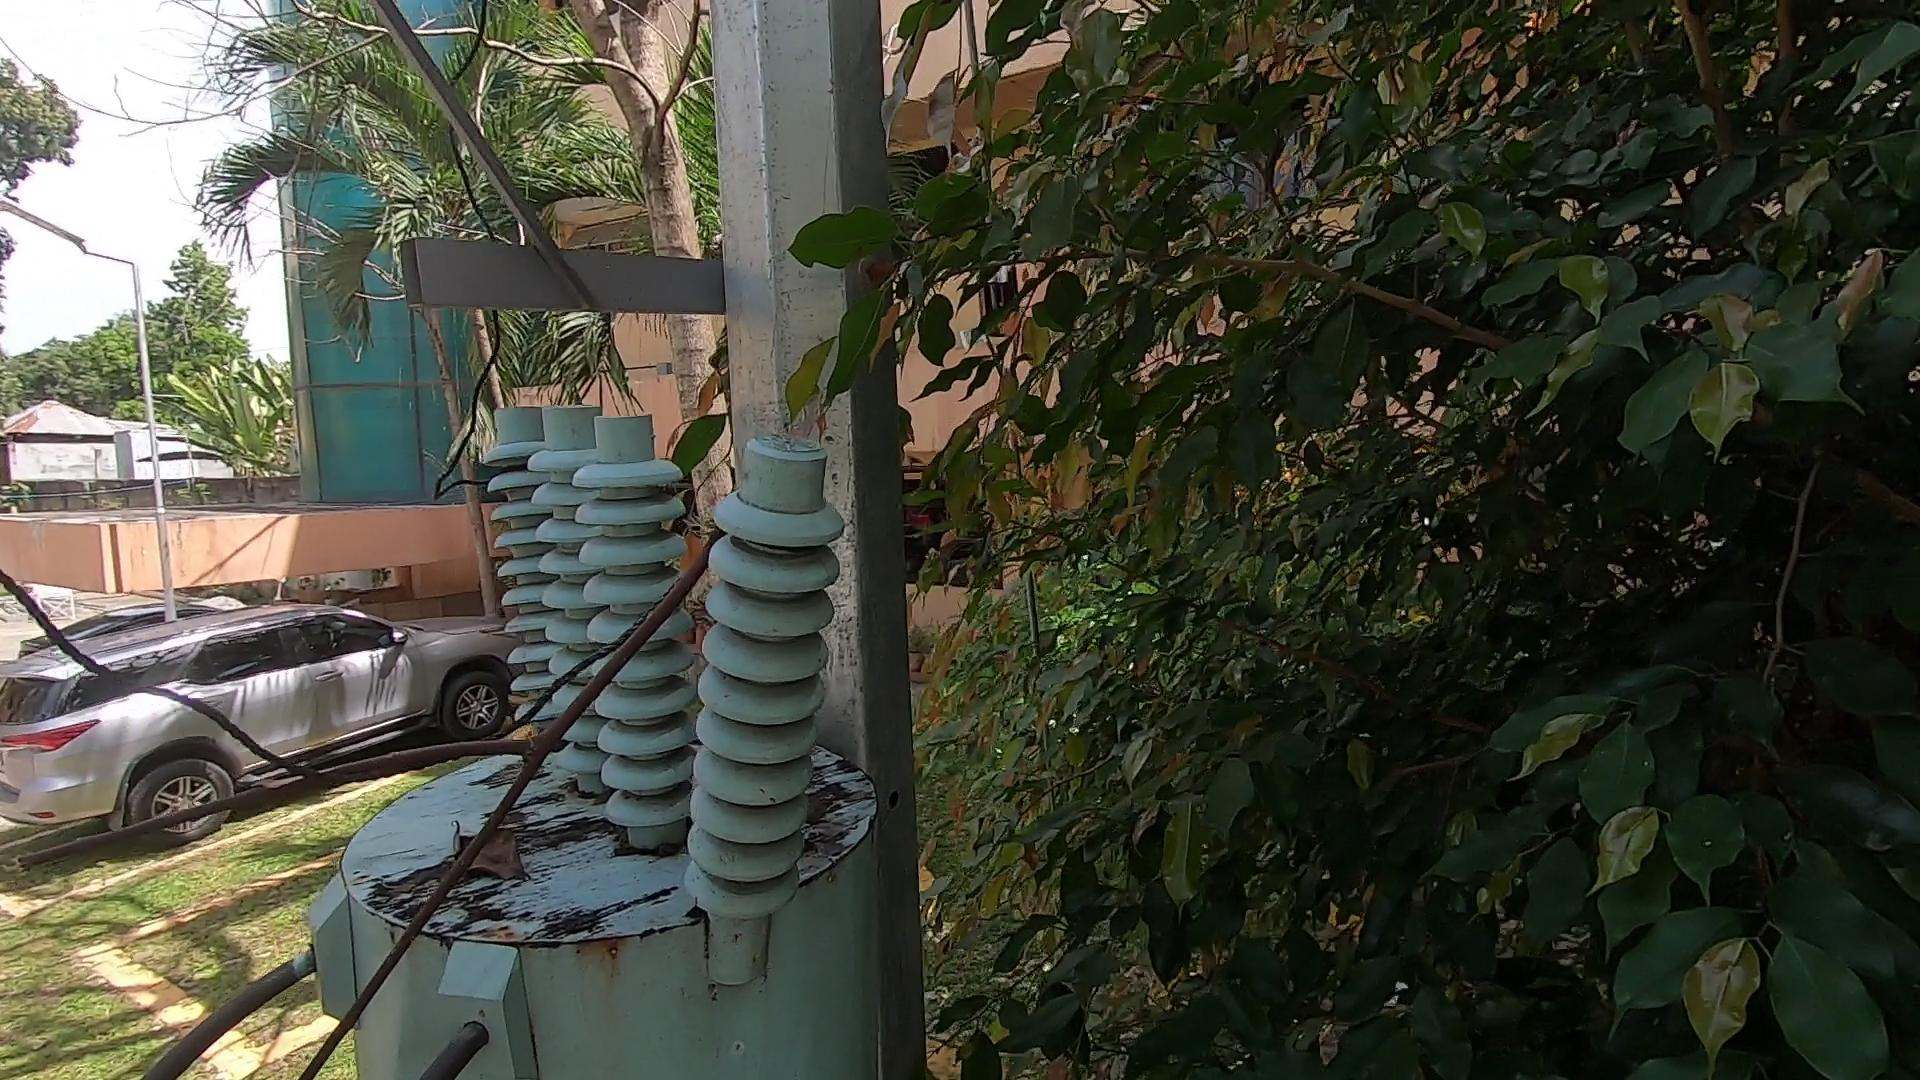leaf: (436, 822, 531, 893)
tree branch: (11, 514, 761, 1077)
